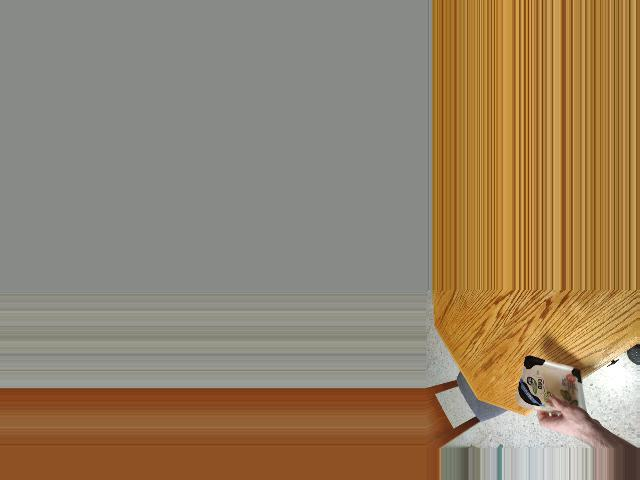cheese: (513, 360, 594, 411)
